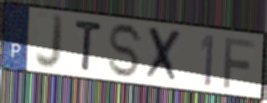1: (199, 33, 215, 88)
F: (222, 35, 258, 91)
J: (33, 12, 66, 72)
S: (107, 22, 145, 80)
T: (74, 18, 103, 73)
X: (143, 24, 184, 86)
